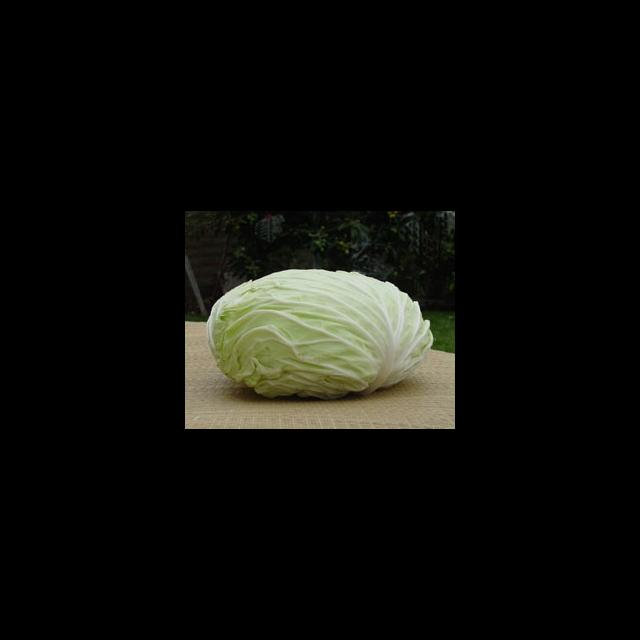cabbage: (200, 273, 428, 403)
